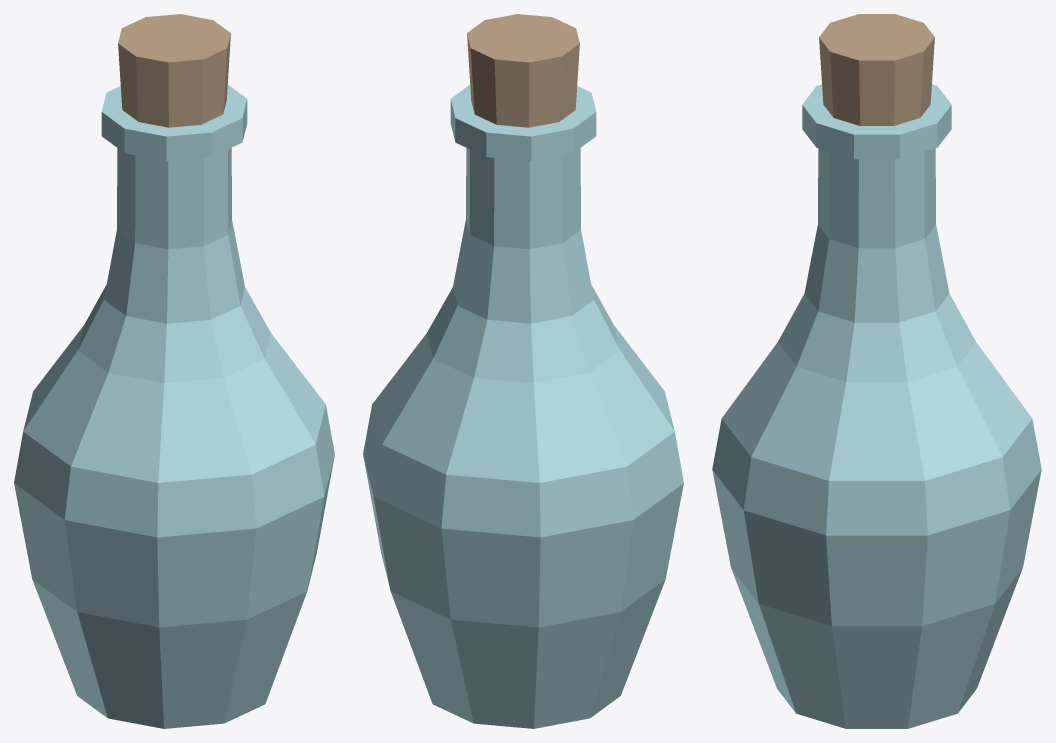
Rendered from Bottle_08.fbx.
3 views of the same model, side by side, from view 1: azimuth 30°, elevation 25°; view 2: azimuth 150°, elevation 25°; view 3: azimuth 270°, elevation 25° (orthographic).
Parts seen in each view (by area): view 1: Bottle_08; view 2: Bottle_08; view 3: Bottle_08.
Part boxes in pixels (box(x1,y1,x2,y2)): Bottle_08: box(14, 14, 334, 728); Bottle_08: box(363, 14, 683, 728); Bottle_08: box(712, 14, 1041, 728).
Size of the model in its own units: 2.74 by 6.29 by 2.88.
